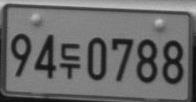0: (86, 36, 107, 81)
4: (33, 34, 57, 79)
7: (110, 37, 133, 82)
8: (135, 37, 158, 84), (161, 39, 184, 85)
9: (10, 32, 32, 78)
두: (59, 41, 81, 79)
